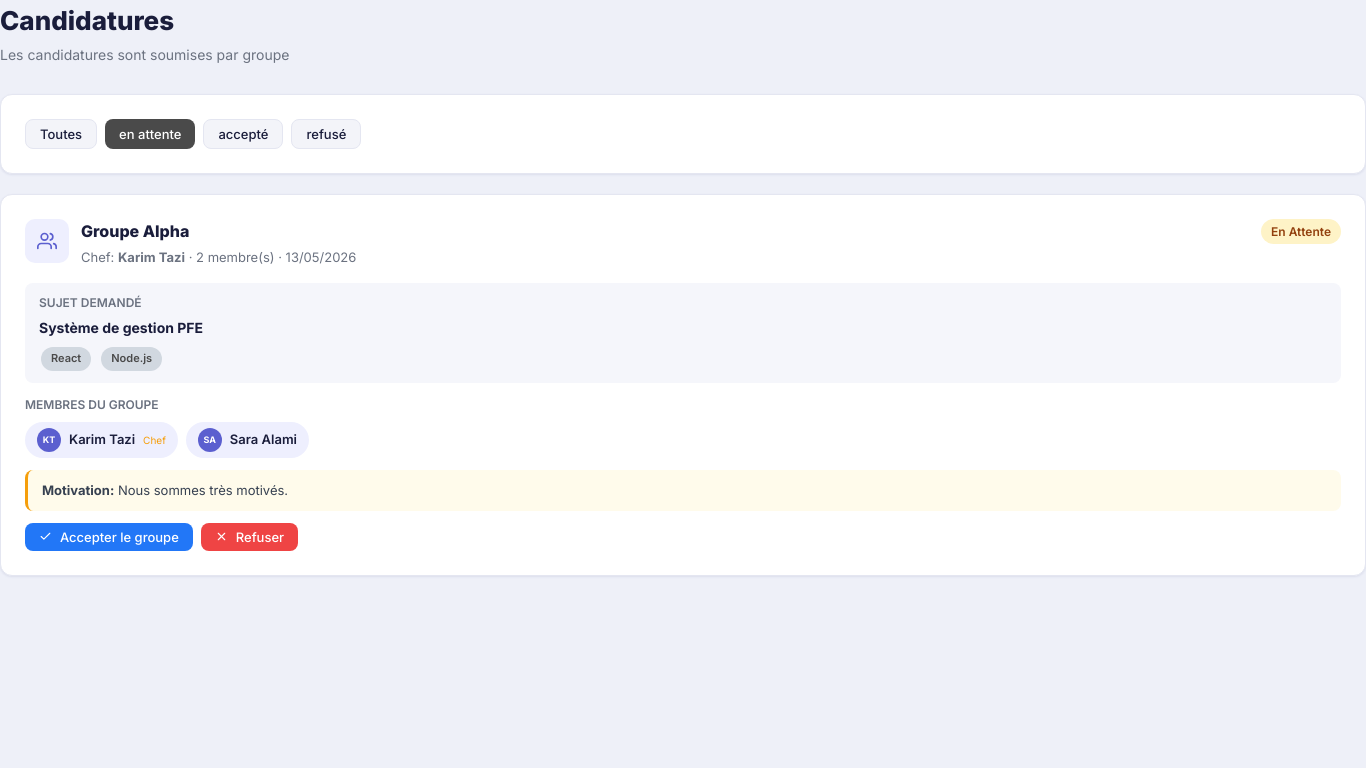
ApplicationsReviewPage › opens accept modal with project creation info
The width and height of the screenshot is (1366, 768).
Click the button "Accepter le groupe".
click(109, 536)  # box [25,522,193,550]
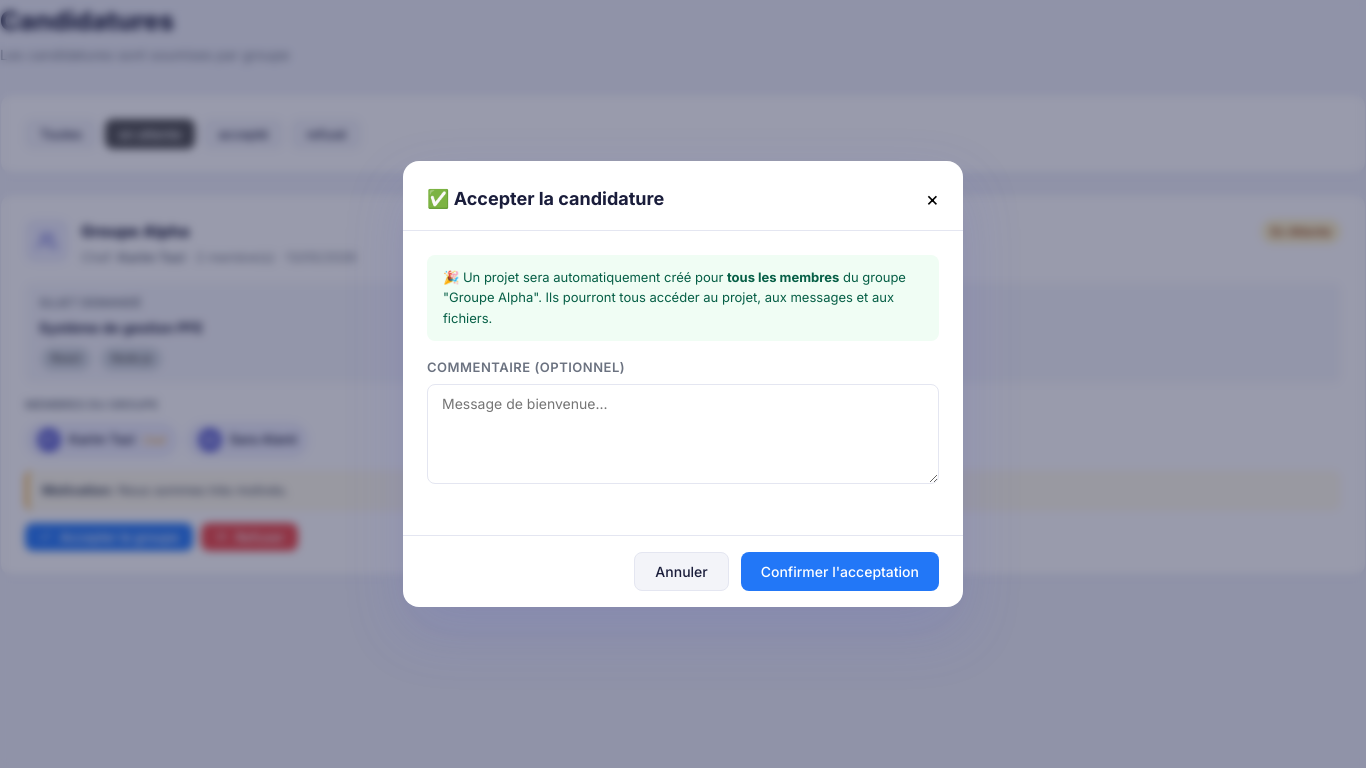
Now the button "Confirmer l'acceptation" is shown, box [741,552,939,591]
Now the text "Un projet sera automatiquement créé" is shown, box [443,268,727,284]
